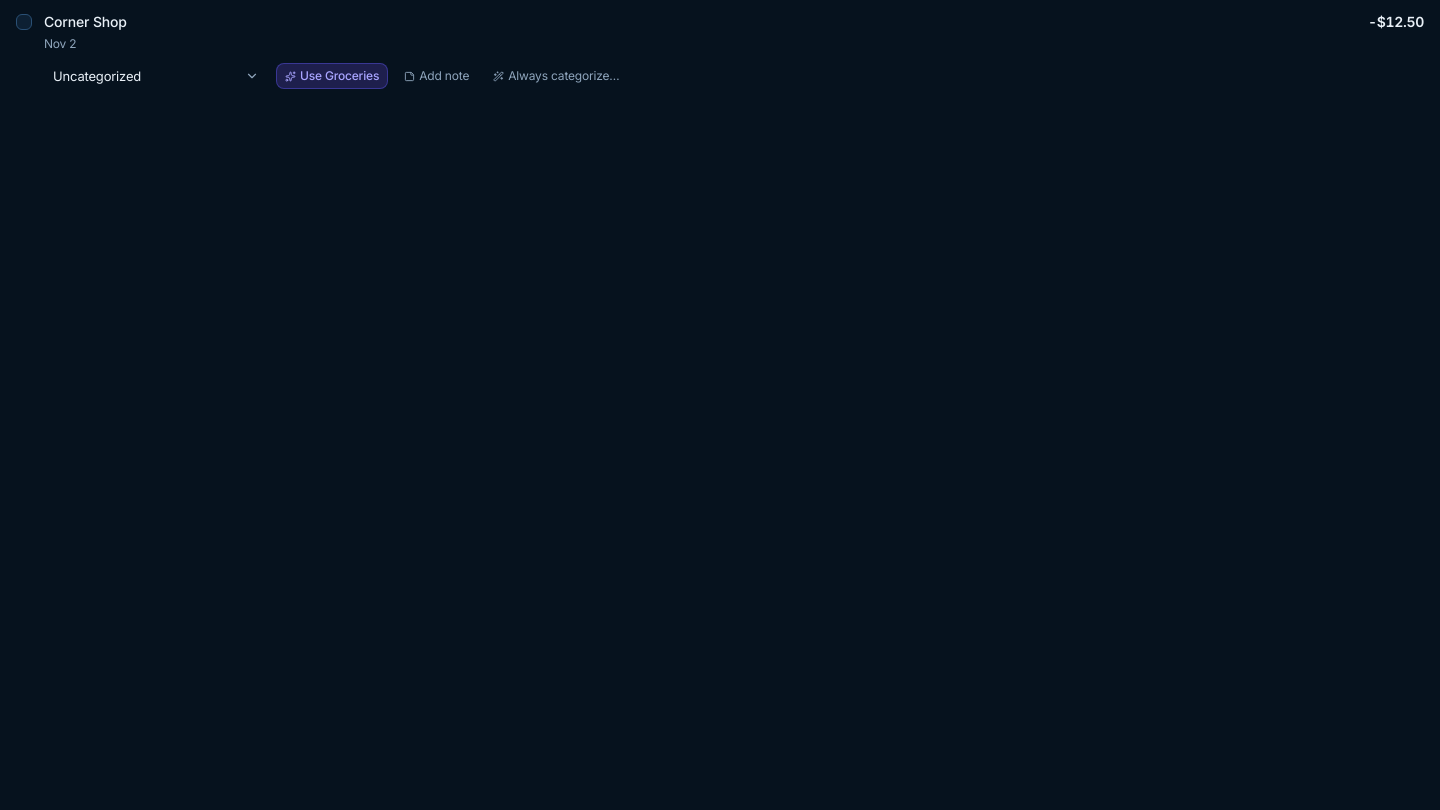
TransactionRows: always categorize (BUD-24) › falls back to Plaid's mapped suggestion on an uncategorized row
Click the button with aria-label "Always categorize Corner Shop".
click(556, 76)  # box [485,64,628,88]
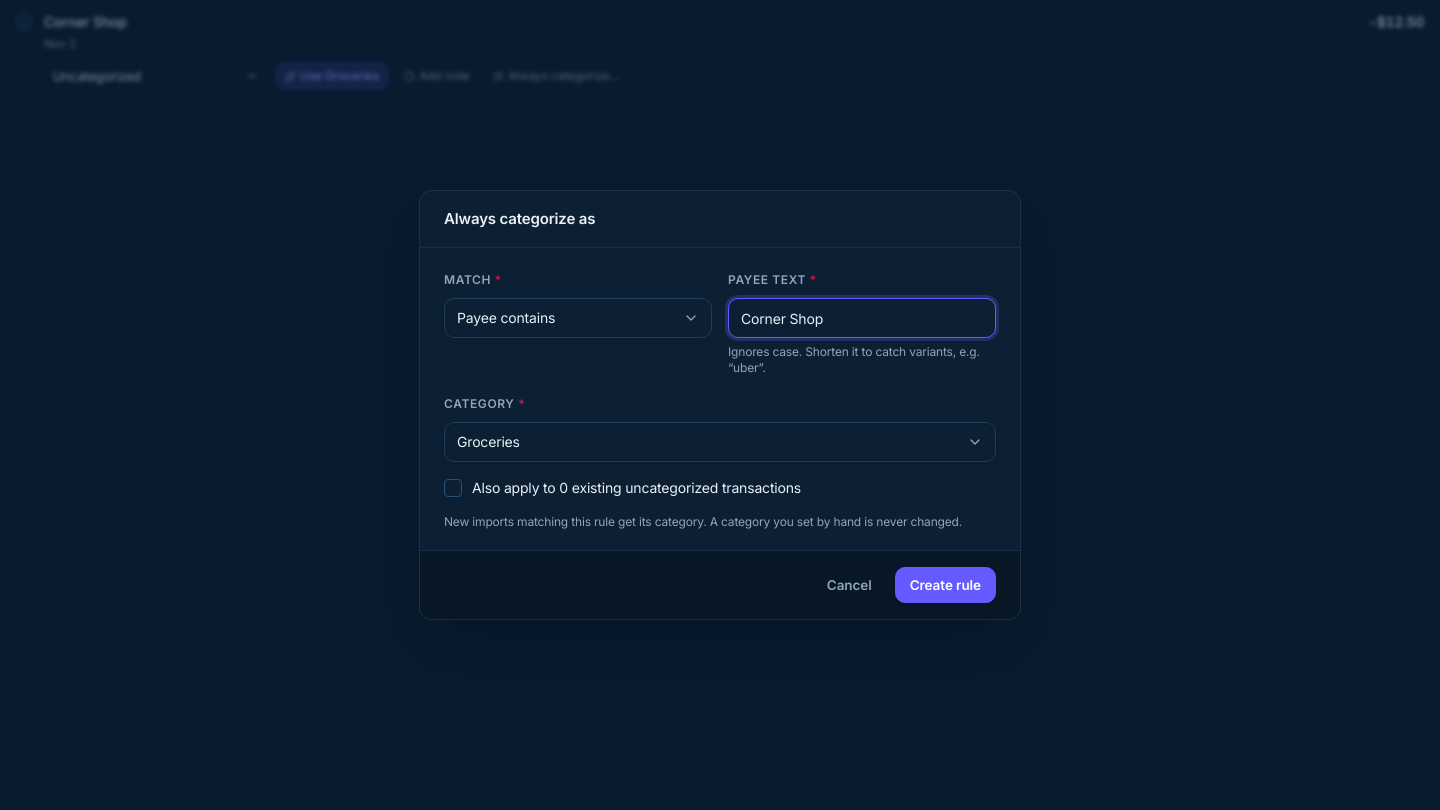
Expected: the dropdown named "Category" reads "Groceries", [444,422,996,462]
